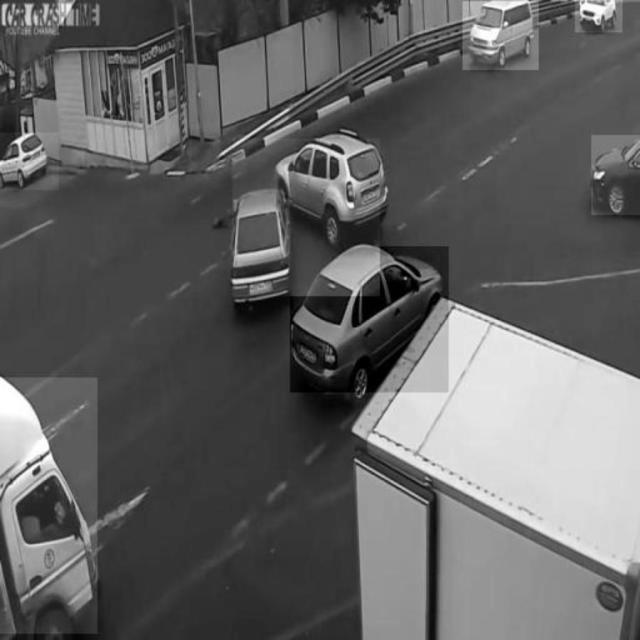accident: (233, 139, 380, 296)
vehicle: (0, 378, 98, 634), (290, 247, 448, 393), (463, 1, 539, 69), (591, 135, 640, 214), (0, 133, 58, 190), (576, 1, 623, 33)
